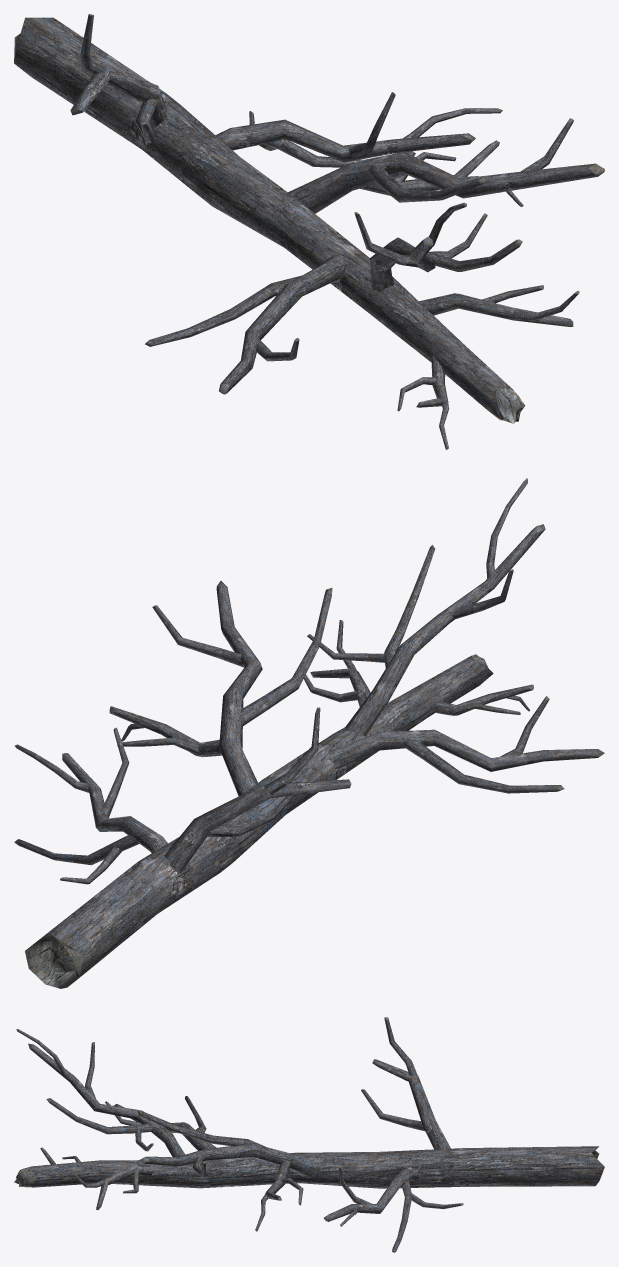
The picture shows the model from 3 angles, top to bottom: view 1: azimuth 30°, elevation 25°; view 2: azimuth 150°, elevation 25°; view 3: azimuth 270°, elevation 25°; orthographic projection. The views are drawn at different scales.
Parts seen in each view (by area): view 1: fallen_dead_tree (×18); view 2: fallen_dead_tree (×19); view 3: fallen_dead_tree (×13).
Boxes of the visible parts, left/top/right/bottom form: fallen_dead_tree (×18): left=14, top=14, right=604, bottom=423; fallen_dead_tree (×19): left=14, top=478, right=604, bottom=988; fallen_dead_tree (×13): left=14, top=1017, right=604, bottom=1252.
Bounding box in the file's own units: 190 × 329 × 93.42.
2 materials, 1 textured.
